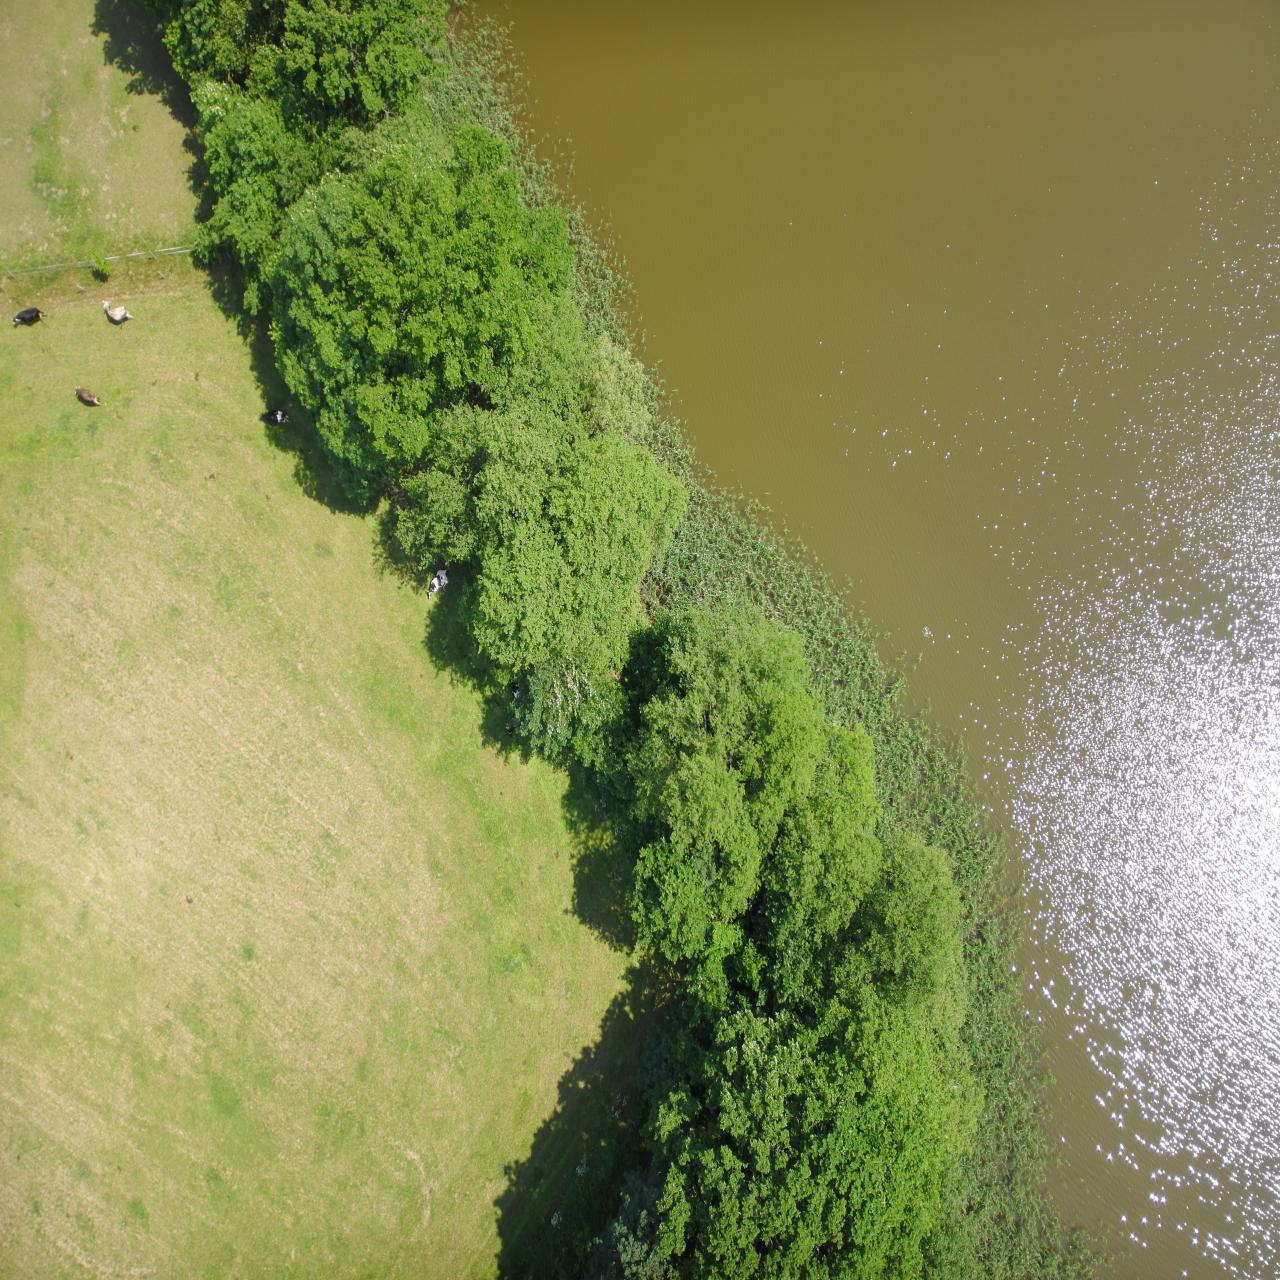cow: (831, 681, 855, 710), (1146, 958, 1178, 979), (1235, 954, 1269, 972), (1178, 872, 1205, 892), (988, 855, 1021, 870)
